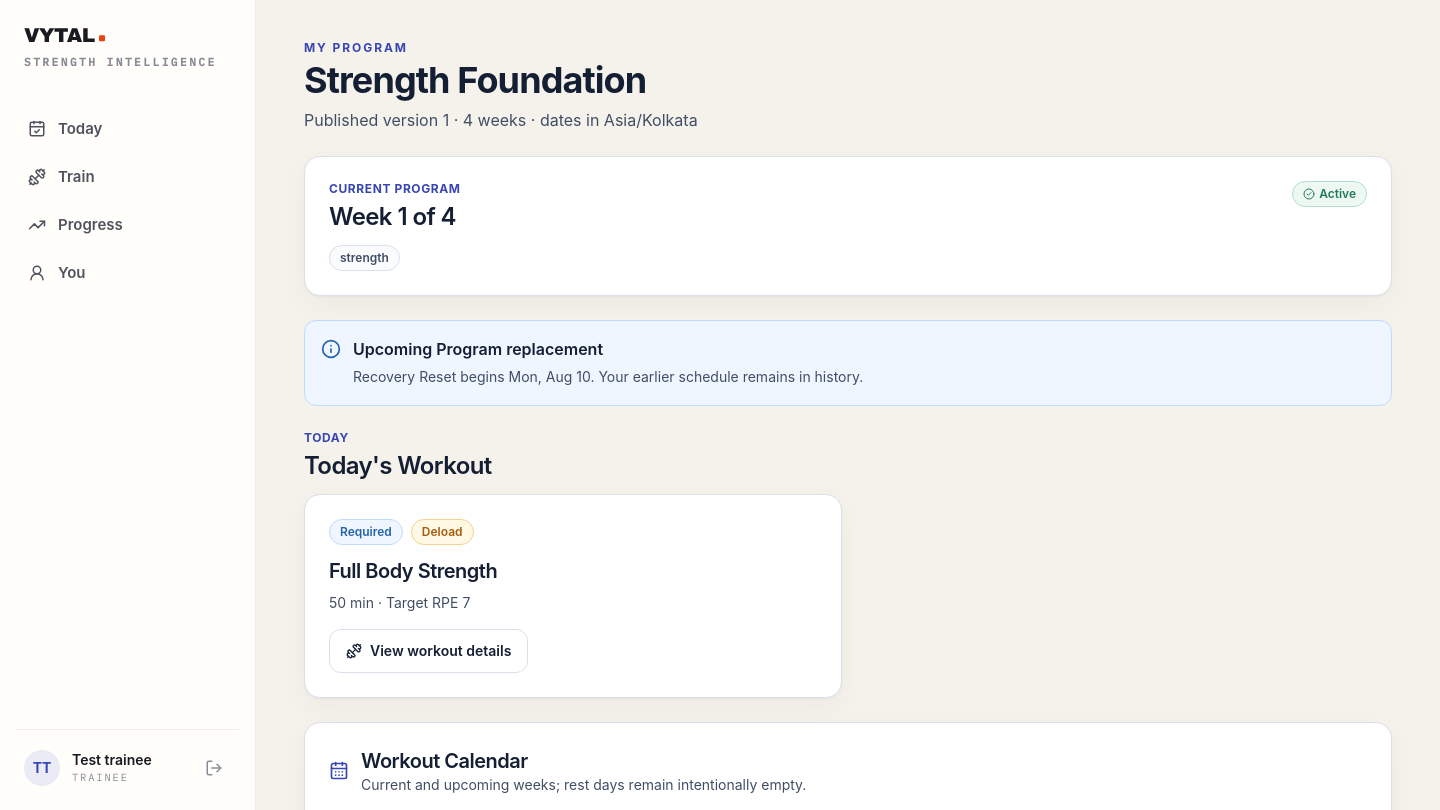
renders the trainee current Program, today, calendar, deload, and read-only details
This screenshot has width=1440, height=810.
Expected: the heading "Strength Foundation" is shown, [304,60,698,100]
Expected: the link "Train" is shown, [28,167,95,186]
Click the button "View workout details": click(429, 651) [329,629,528,673]
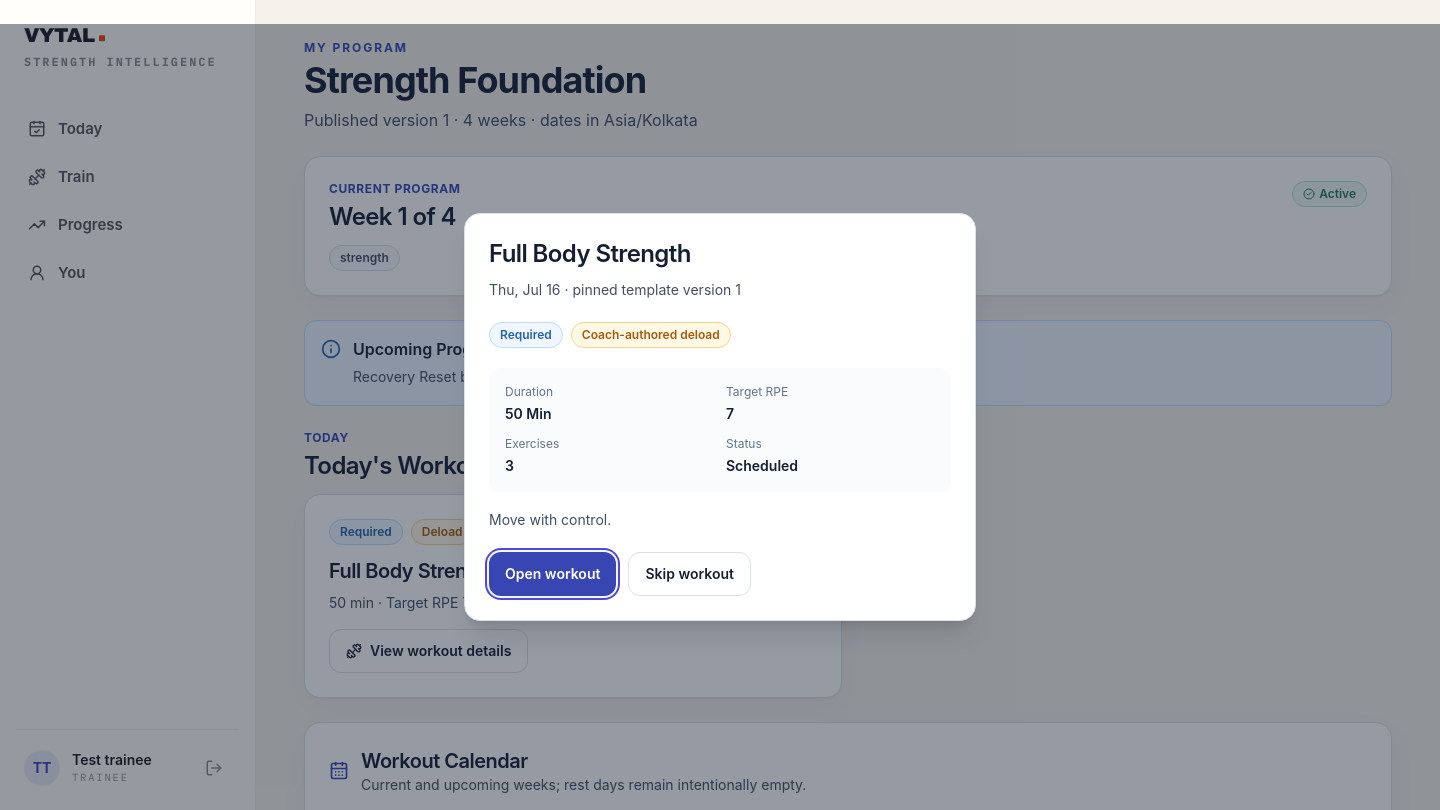
Result: the dialog "Full Body Strength" is shown at [464,213,976,621]
